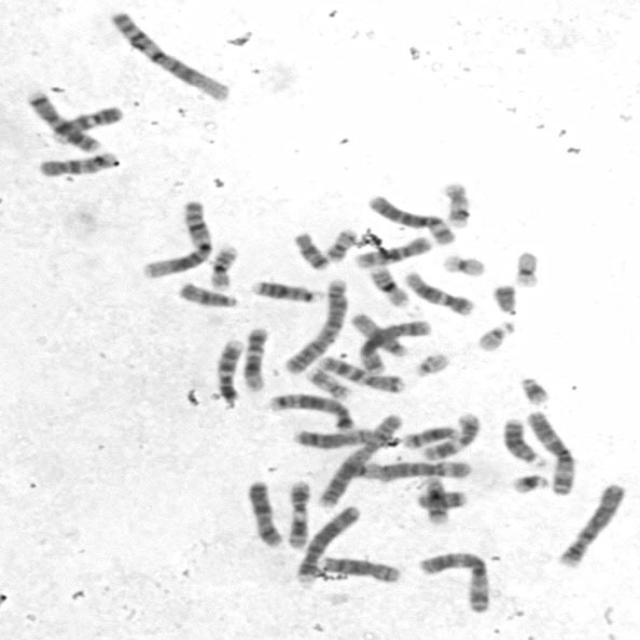A1: (105, 6, 234, 103), (136, 195, 215, 280)
A2: (311, 409, 403, 510), (280, 274, 351, 375)
A3: (521, 404, 581, 497), (414, 547, 493, 614)
B4: (552, 478, 628, 569), (290, 500, 362, 584)
B5: (355, 316, 433, 374), (263, 388, 357, 432)
C10: (349, 232, 435, 268), (33, 146, 121, 178)
C11: (415, 408, 483, 462), (282, 476, 314, 550)
C12: (399, 265, 477, 317), (238, 324, 272, 393)
C6: (363, 190, 458, 247), (381, 455, 476, 481)
C7: (22, 86, 104, 153), (315, 350, 407, 394)
C8: (316, 551, 403, 584), (289, 425, 391, 449)
C9: (46, 101, 125, 146), (210, 335, 246, 406)
D13: (499, 412, 552, 468), (246, 275, 324, 303)
D14: (418, 472, 454, 525), (400, 420, 461, 450)
D15: (346, 308, 410, 358), (174, 278, 242, 308)
E16: (364, 261, 412, 308), (205, 240, 240, 290)
E17: (437, 177, 473, 230), (301, 364, 352, 401)
E18: (289, 226, 332, 272), (412, 487, 468, 510)
F19: (436, 249, 489, 278), (509, 246, 542, 288)
F20: (320, 224, 360, 262), (347, 462, 385, 482)
G21: (514, 371, 554, 406), (505, 468, 551, 495)
G22: (472, 316, 518, 353), (409, 348, 452, 378)
X: (242, 476, 286, 548)
Y: (487, 279, 520, 314)
